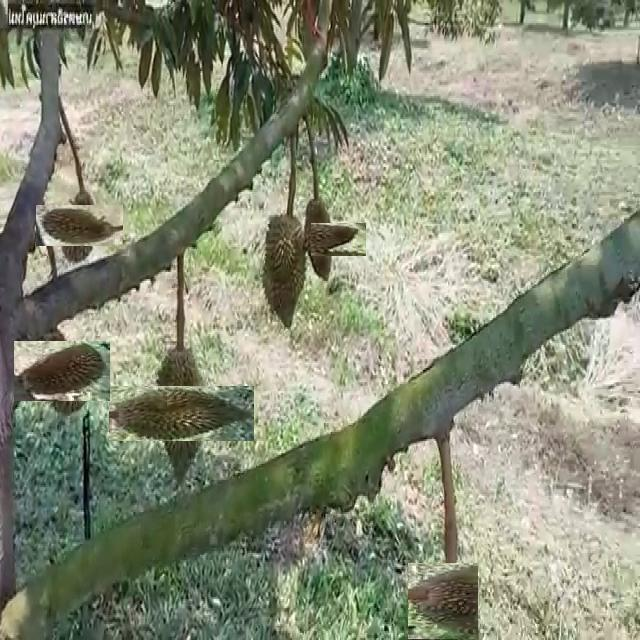durian: (131, 364, 232, 464), (259, 206, 311, 330), (23, 332, 101, 411), (406, 565, 480, 640), (284, 207, 350, 272), (47, 193, 111, 258)
